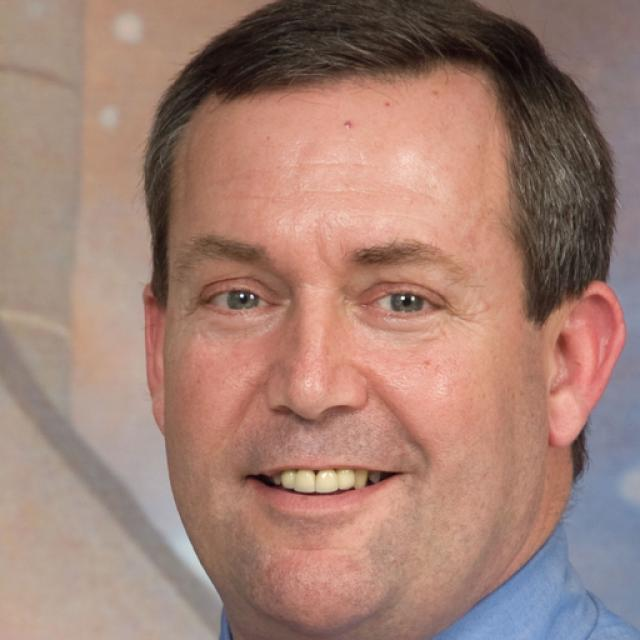Acne: (336, 111, 372, 139)
